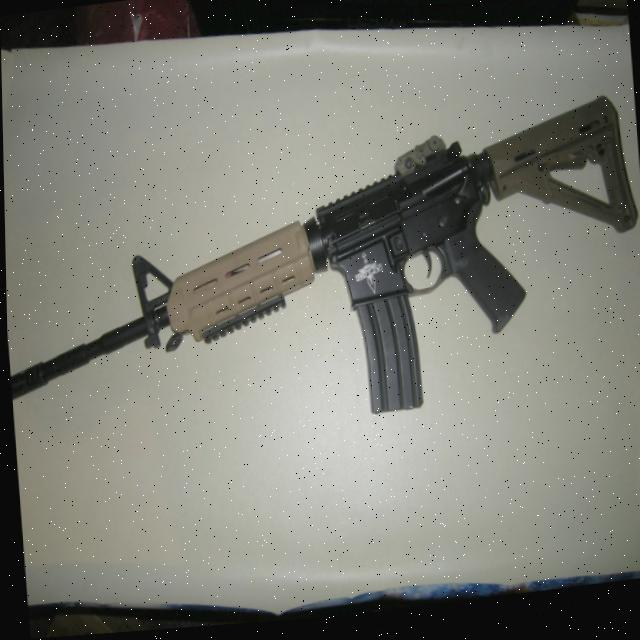firearm: (2, 103, 640, 459)
